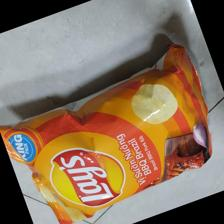Lays: (1, 43, 215, 224)
